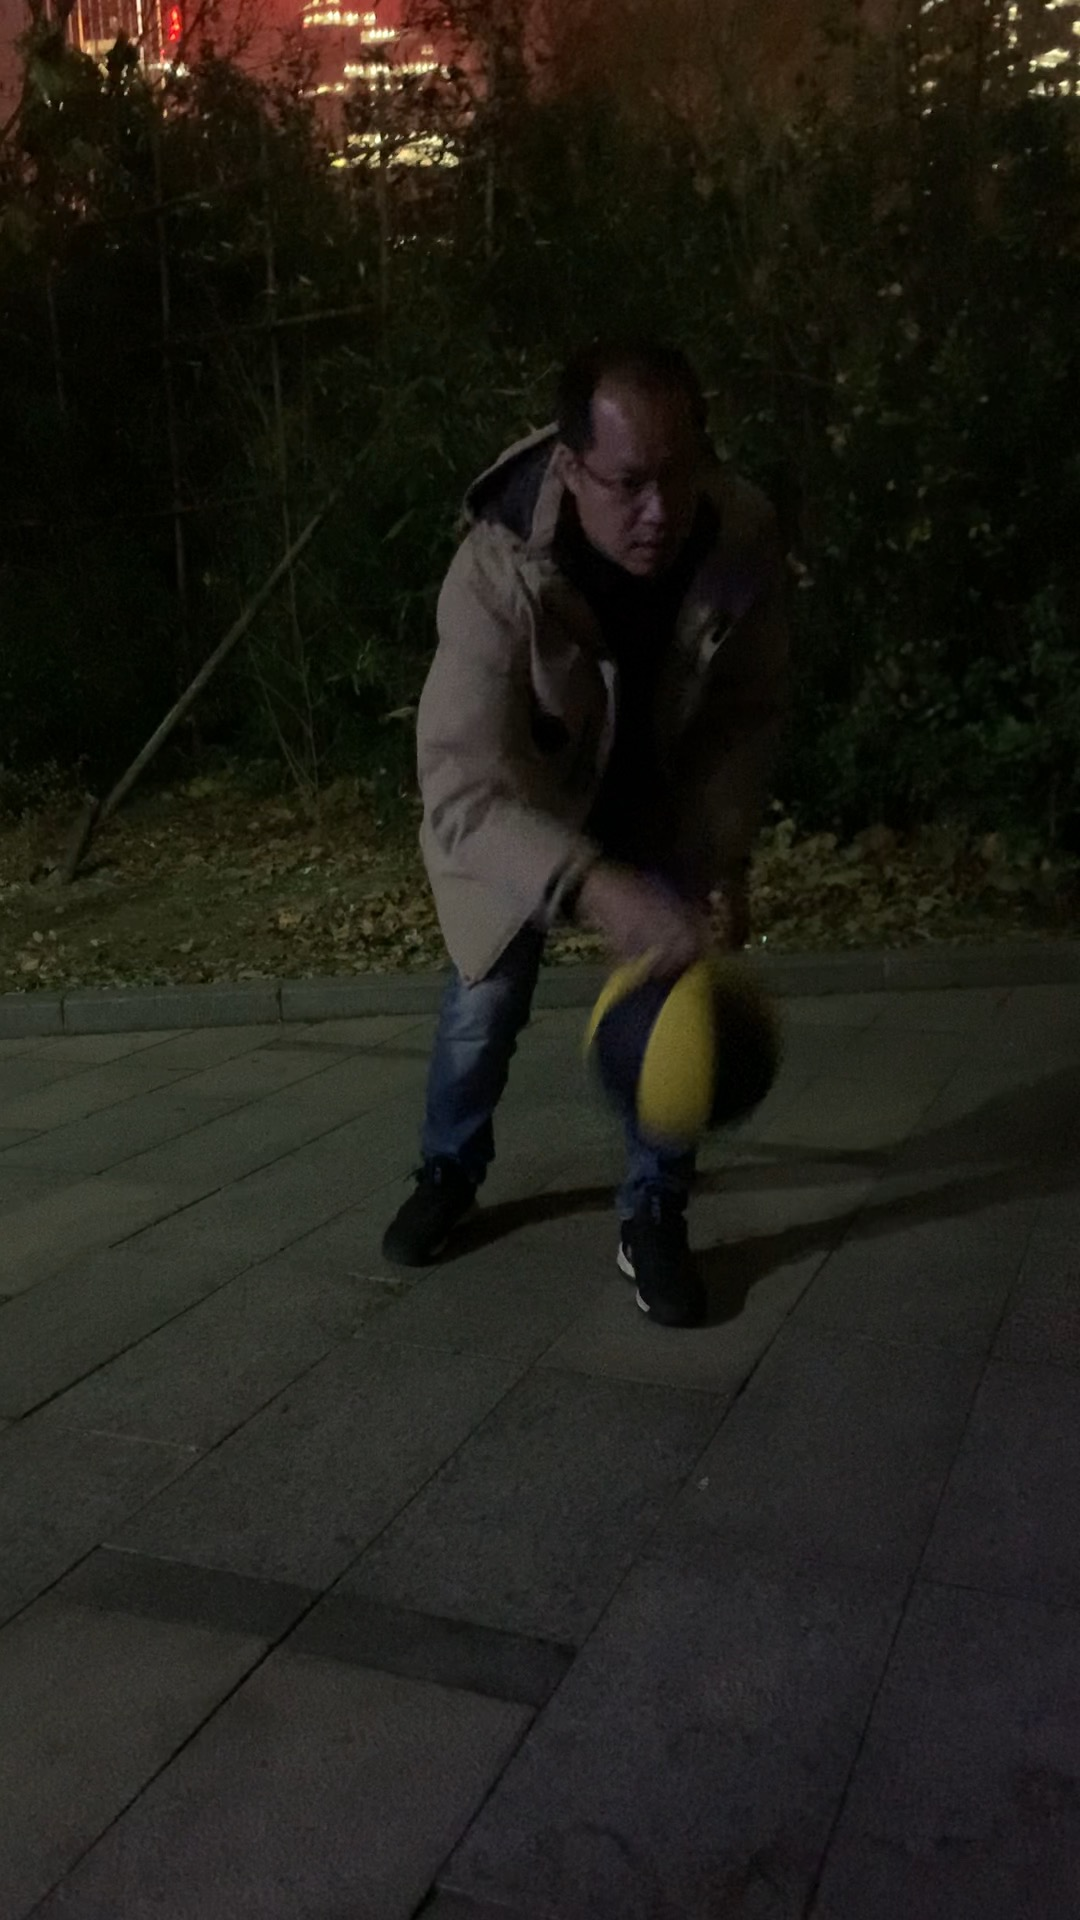ball: (585, 939, 787, 1145)
